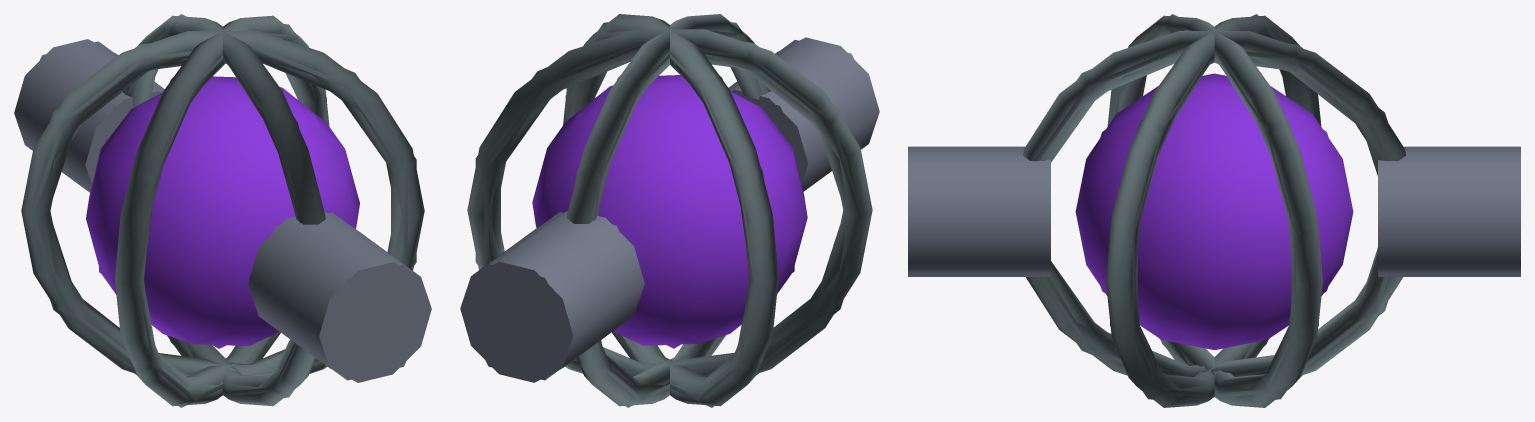
The model's file is gr_well.glb.
3 views of the same model, side by side, from view 1: azimuth 30°, elevation 25°; view 2: azimuth 150°, elevation 25°; view 3: azimuth 270°, elevation 25° (orthographic).
Parts seen in each view (by area): view 1: L0, L1; view 2: L0, L1; view 3: L0, L1.
Part boxes in pixels (x1=…): L0: x1=14, y1=15, x2=431, y2=406; L1: x1=30, y1=14, x2=430, y2=407; L0: x1=460, y1=14, x2=879, y2=406; L1: x1=461, y1=17, x2=863, y2=407; L0: x1=908, y1=15, x2=1520, y2=407; L1: x1=908, y1=14, x2=1520, y2=399.
Size of the model in its own units: 0.0859 by 0.0982 by 0.15.
